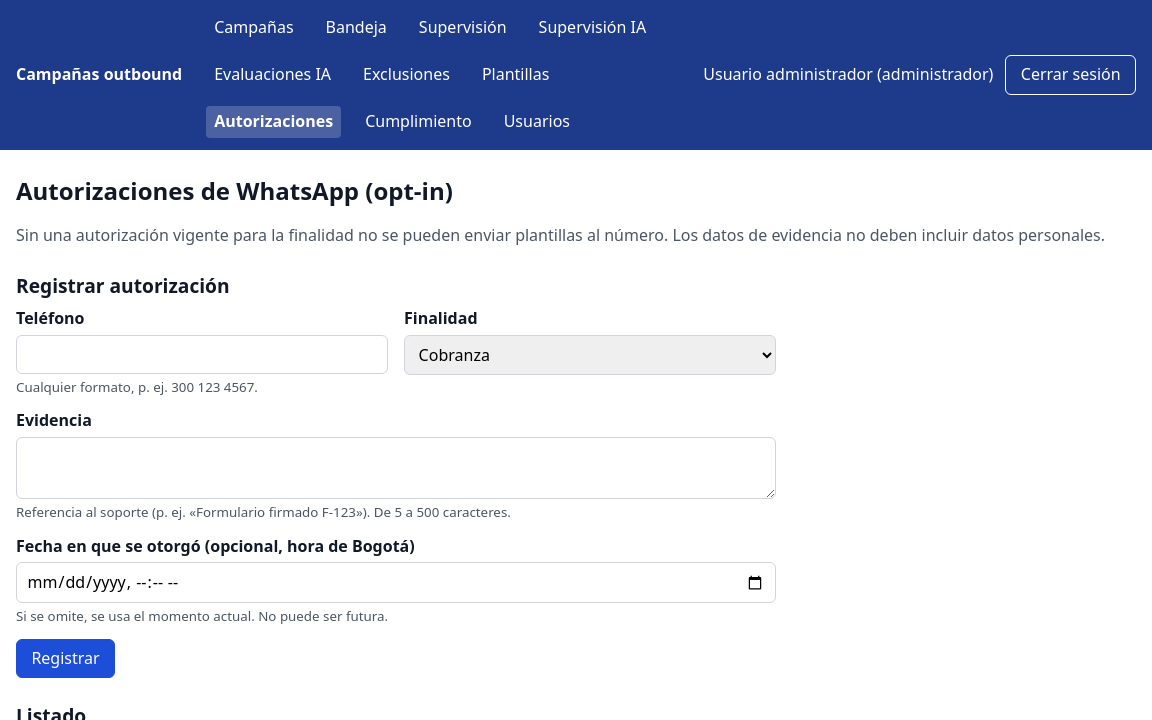
Test: Autorizaciones (opt-in) › alta manual: valida la evidencia, envía el cuerpo y muestra AUTORIZACION_DUPLICADA
Type "300 123 4567" into the field labelled "Teléfono" at (202, 354), box top-left (16, 335), bottom-right (388, 374)
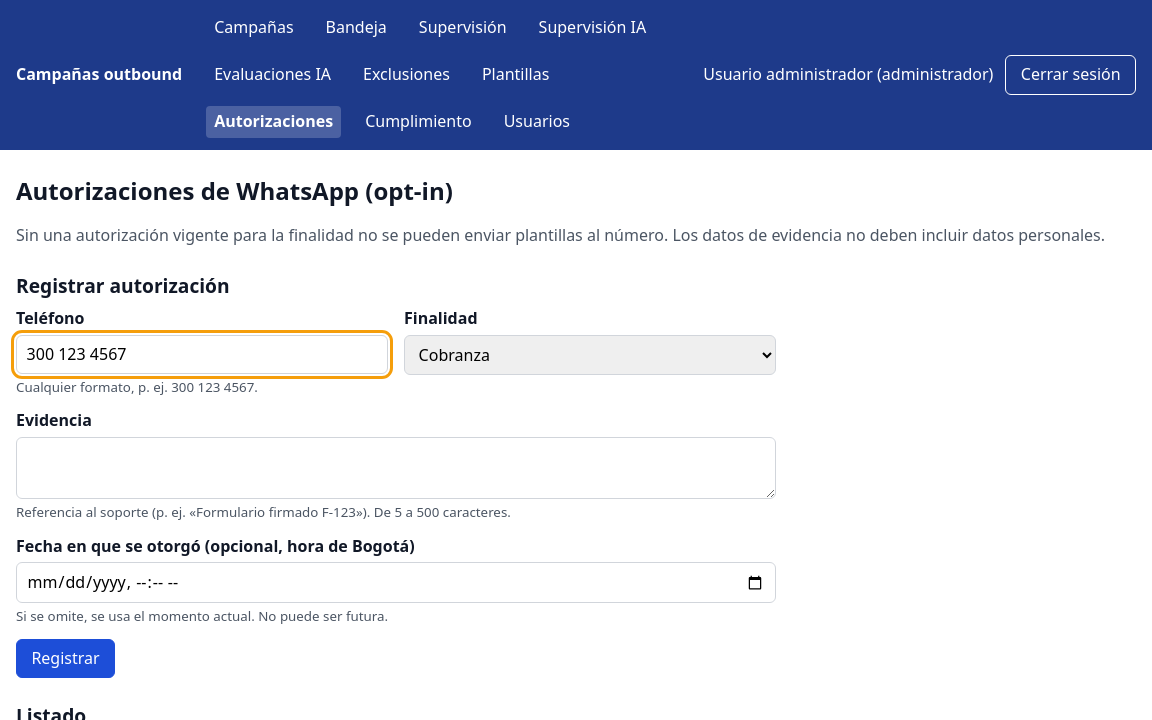
Click the button "Registrar" at (66, 659), box top-left (16, 639), bottom-right (115, 678)
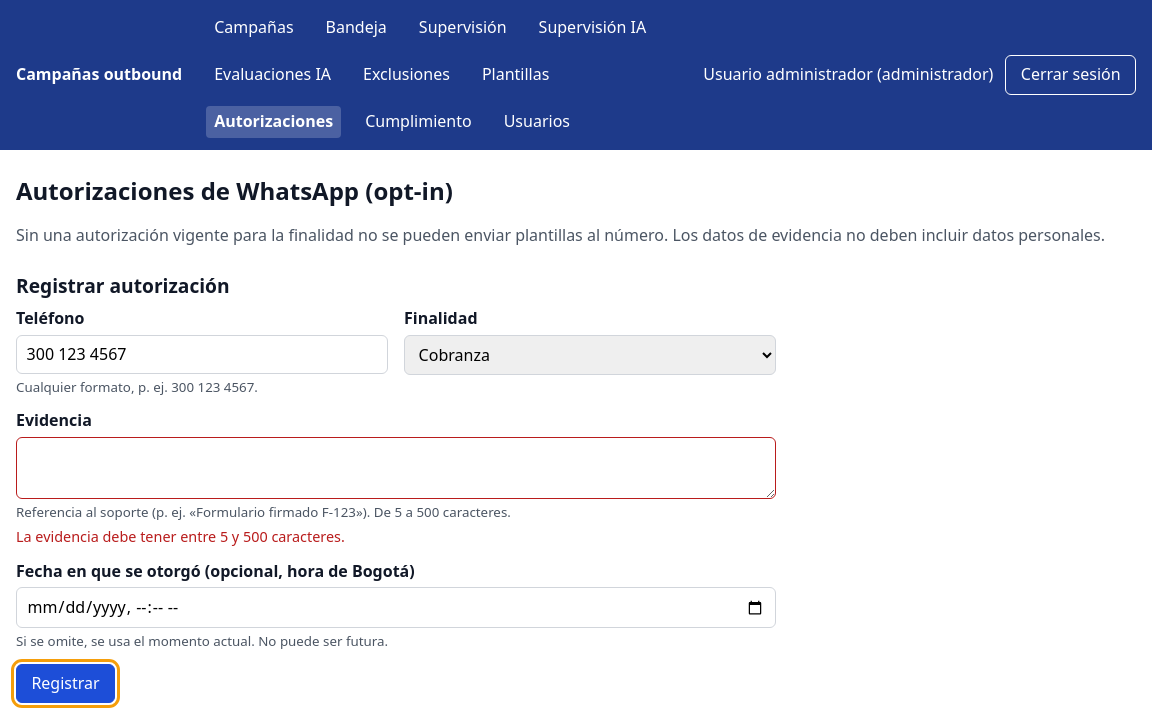
Expected: the text "La evidencia debe tener entre 5 y 500 caracteres." is shown, top-left (16, 527), bottom-right (345, 546)
Type "Formulario firmado F-123" into the text box labelled "Evidencia" at (396, 468), box top-left (16, 437), bottom-right (776, 499)
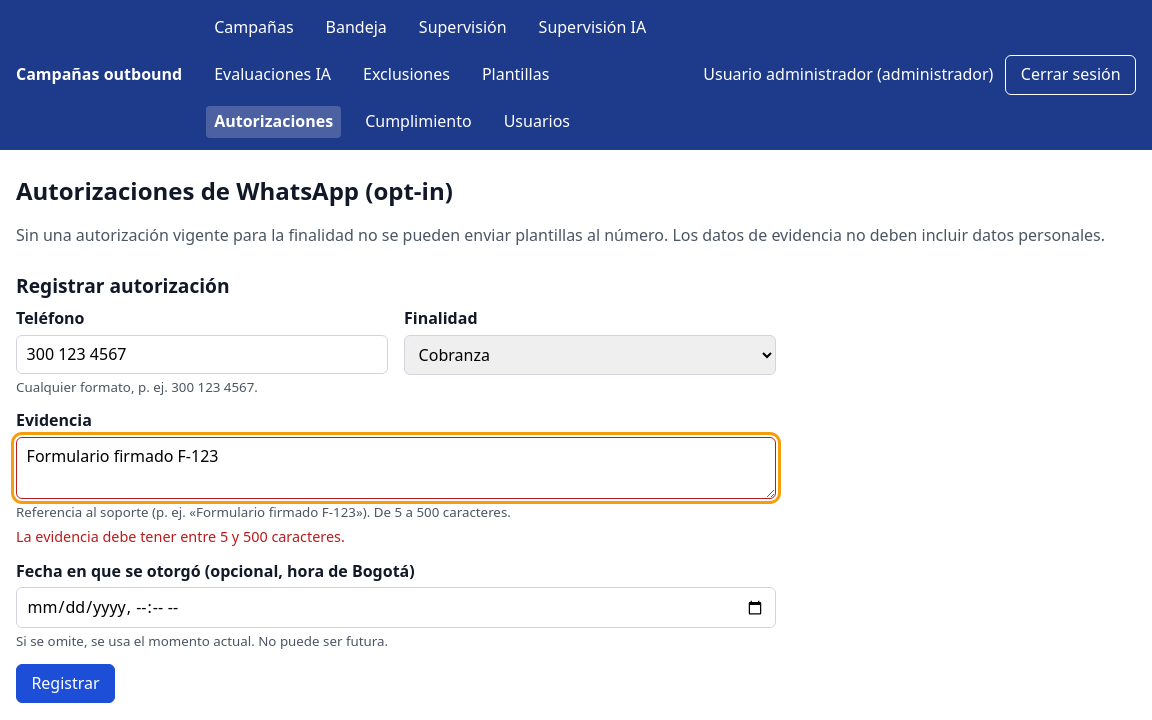
Click the button "Registrar" at (66, 683), box top-left (16, 664), bottom-right (115, 703)
(page scrolled)
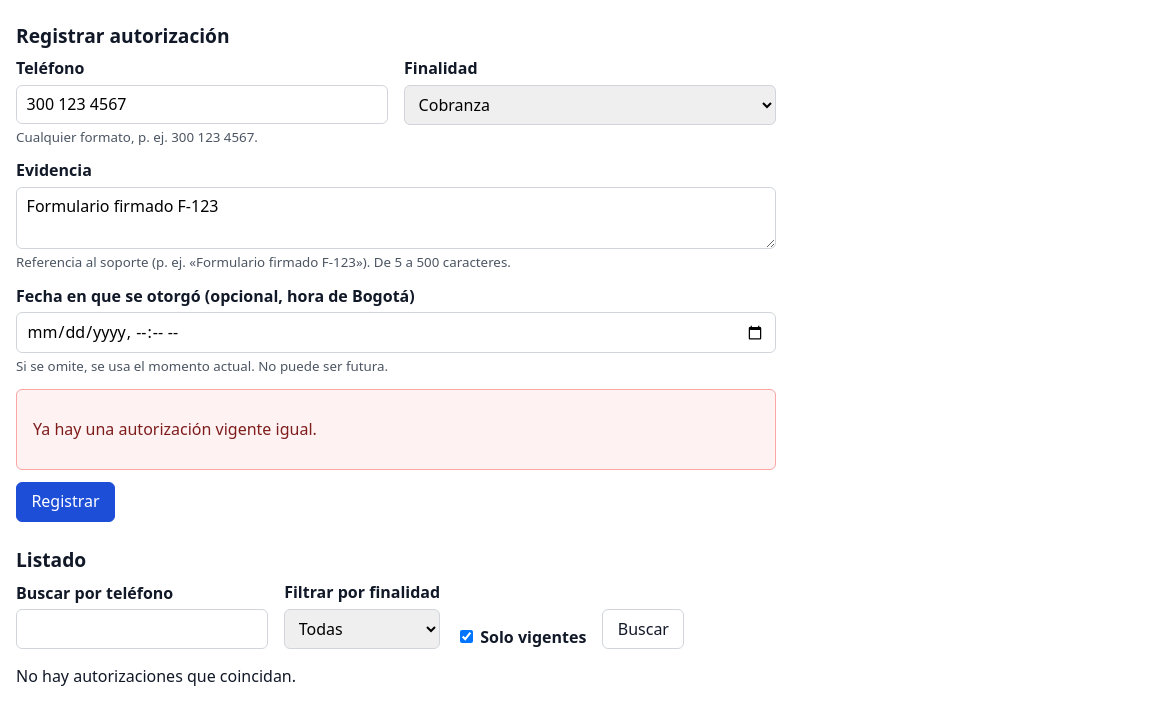
Expected: the text "Ya hay una autorización vigente igual." is shown, top-left (33, 418), bottom-right (317, 440)
Click the button "Registrar" at (66, 502), box top-left (16, 482), bottom-right (115, 522)
(page scrolled)
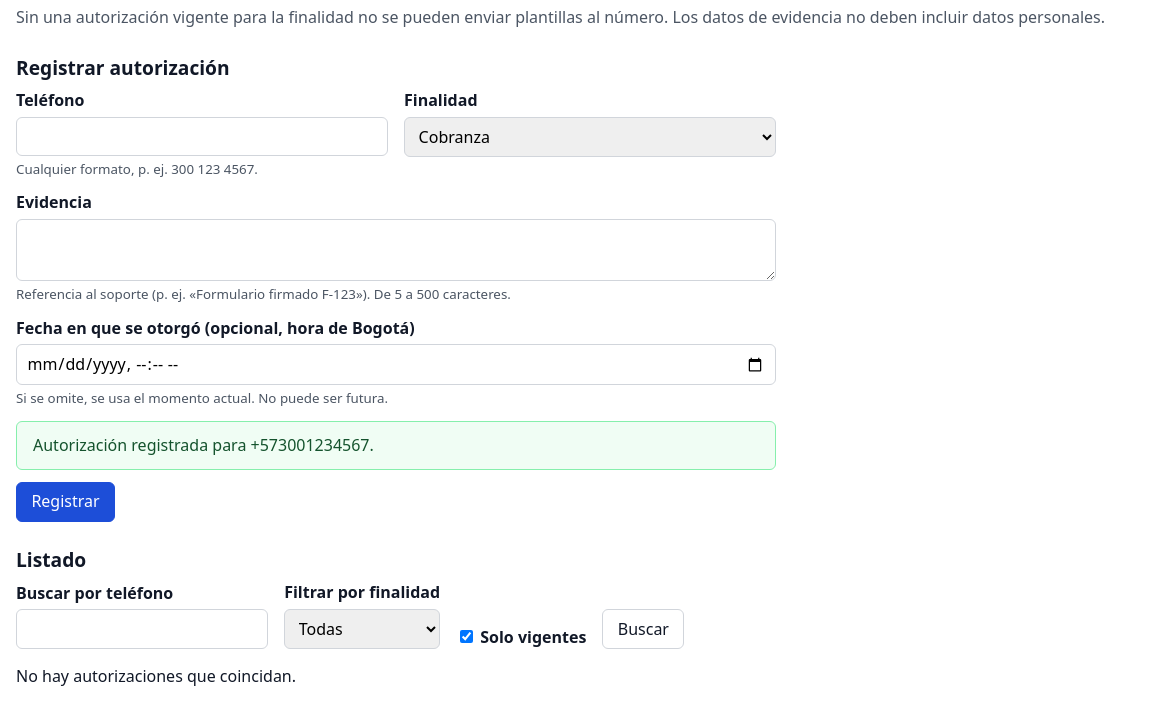
Expected: the text "Autorización registrada para +573001234567." is shown, top-left (16, 421), bottom-right (776, 470)
